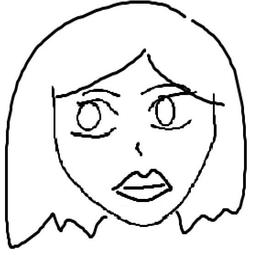cupid_mouth: (110, 166, 175, 206)
eye: (67, 98, 122, 142), (147, 92, 195, 133)
eyebrow: (138, 80, 178, 96), (81, 87, 124, 98)
pointy_nose: (133, 140, 145, 158)
